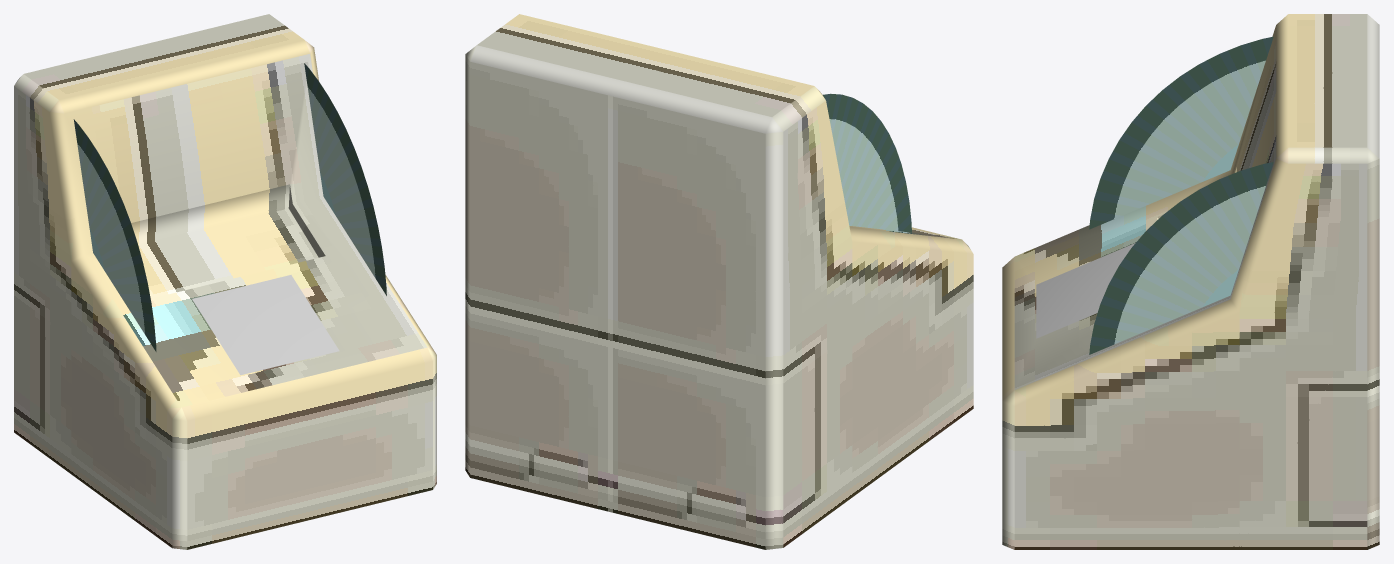
The model's file is int_oth_ATM.dae.
The picture shows the model from 3 angles, left to right: view 1: azimuth 30°, elevation 25°; view 2: azimuth 150°, elevation 25°; view 3: azimuth 270°, elevation 25°; orthographic projection. The views are drawn at different scales.
Visible parts, largest first — view 1: int_oth_ATM; view 2: int_oth_ATM; view 3: int_oth_ATM.
Part boxes in pixels (box(x1,y1,x2,y2)): int_oth_ATM: box(14, 14, 436, 549); int_oth_ATM: box(465, 14, 973, 549); int_oth_ATM: box(1002, 14, 1379, 549).
Bounding box in the file's own units: 28 × 36 × 31.
Materials: 3 (2 with a texture image).
